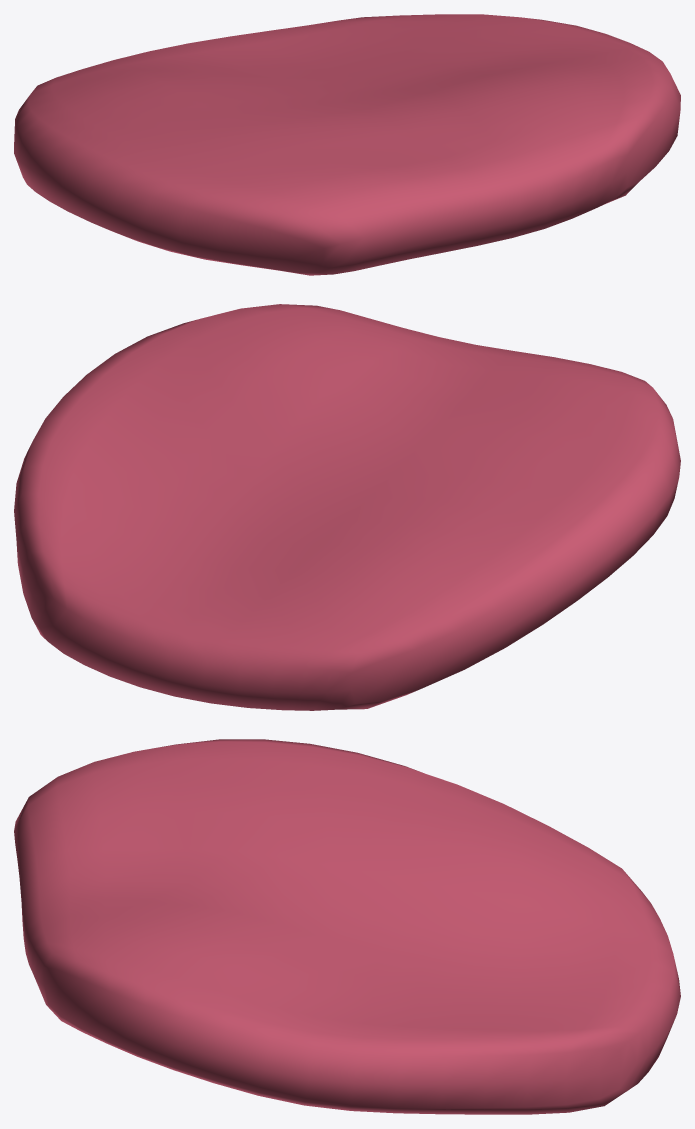
3 views of the same model, one above another, from view 1: azimuth 30°, elevation 25°; view 2: azimuth 150°, elevation 25°; view 3: azimuth 270°, elevation 25° (orthographic). The views are drawn at different scales.
Visible parts, largest first — view 1: 右侧髌下深囊; view 2: 右侧髌下深囊; view 3: 右侧髌下深囊.
Part boxes in pixels (bbox=[...]): 右侧髌下深囊: bbox=[14, 14, 680, 275]; 右侧髌下深囊: bbox=[14, 304, 680, 710]; 右侧髌下深囊: bbox=[14, 739, 680, 1114].
Size of the model in its own units: 0.0255 by 0.00667 by 0.0243.
